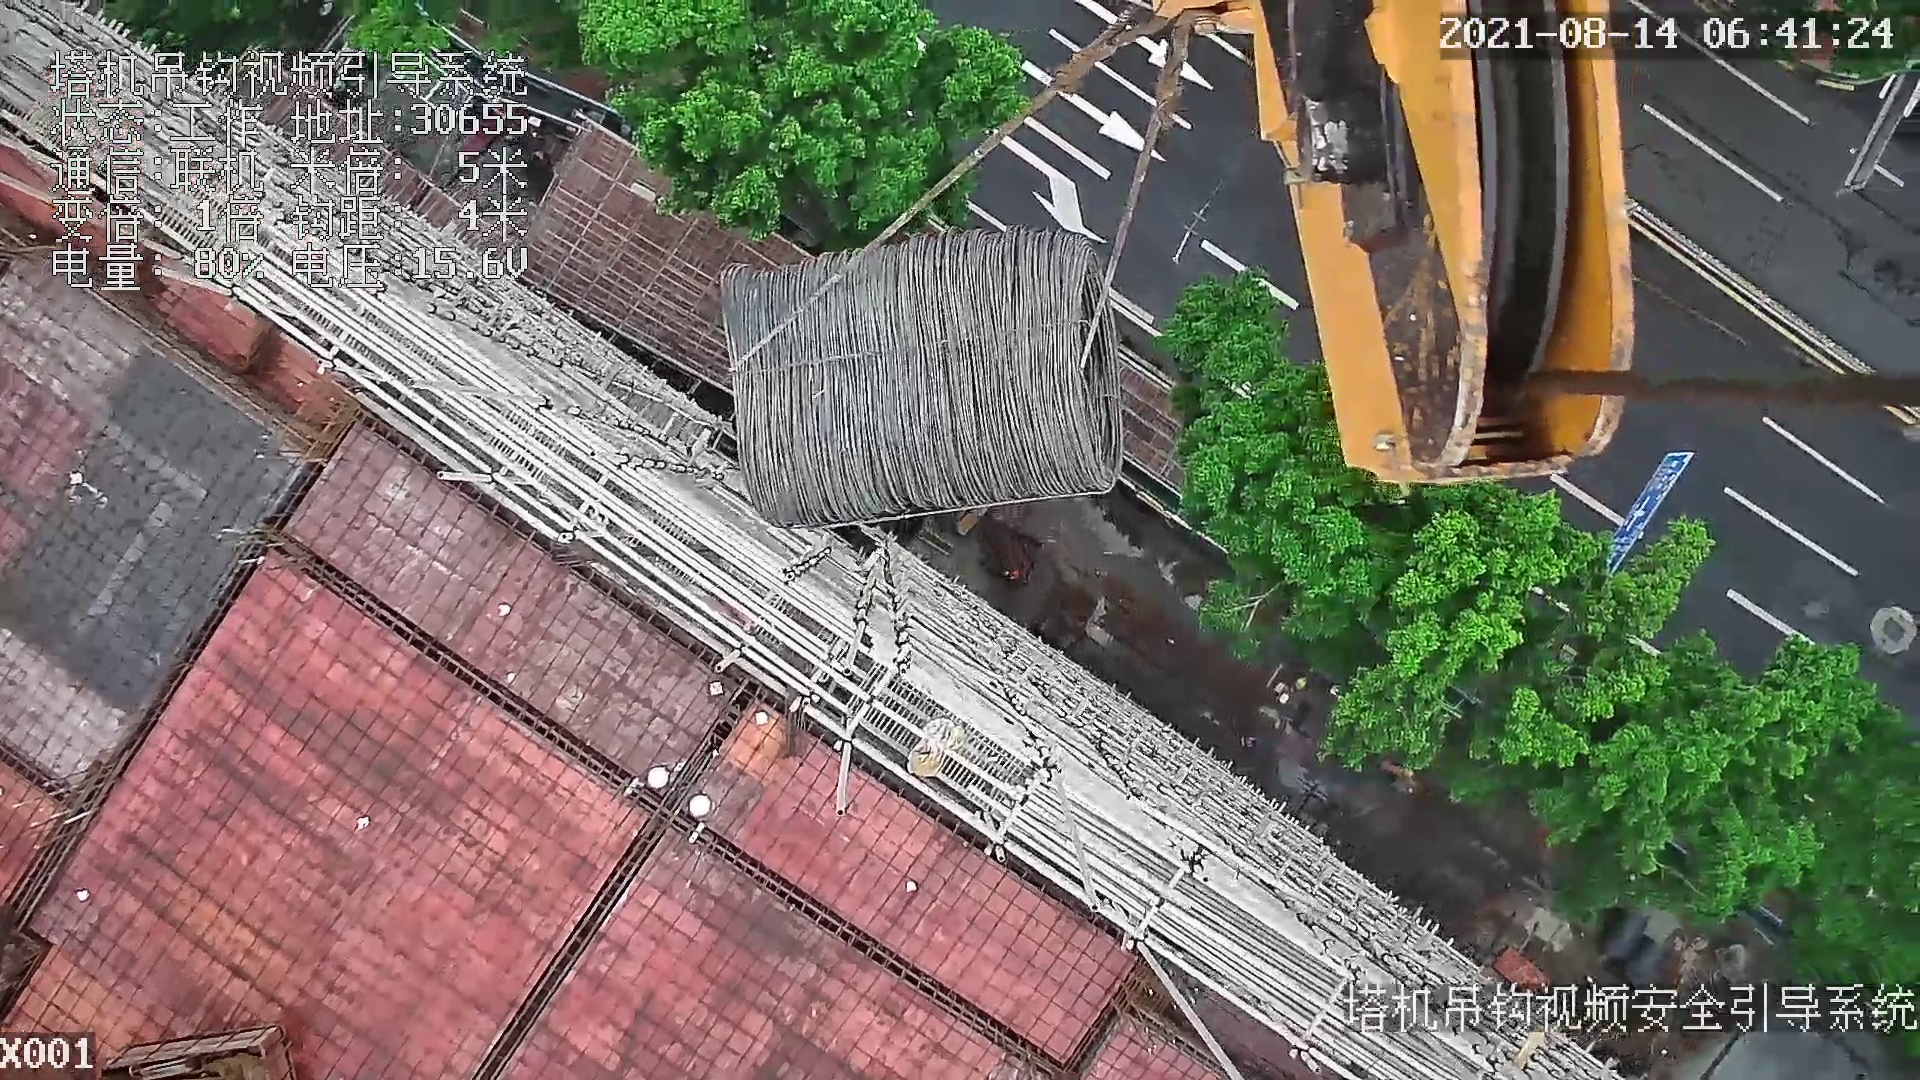hook: (1147, 1, 1655, 483)
